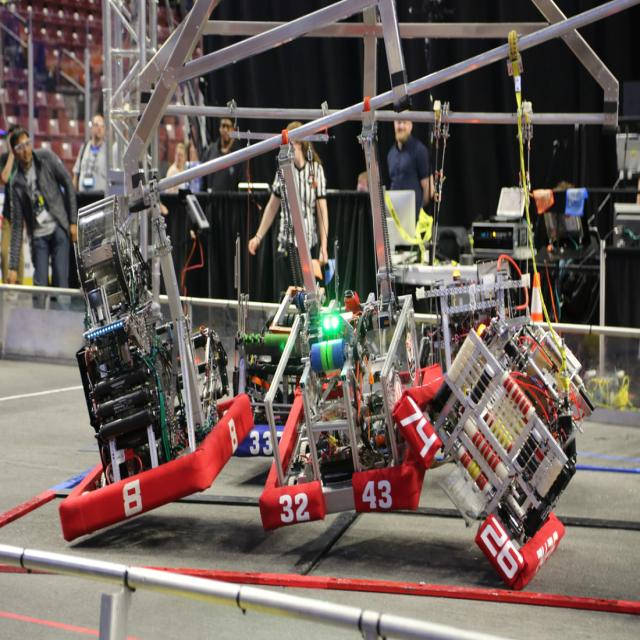robot: (57, 171, 254, 542), (258, 96, 424, 530), (391, 312, 593, 588), (228, 285, 336, 461)
